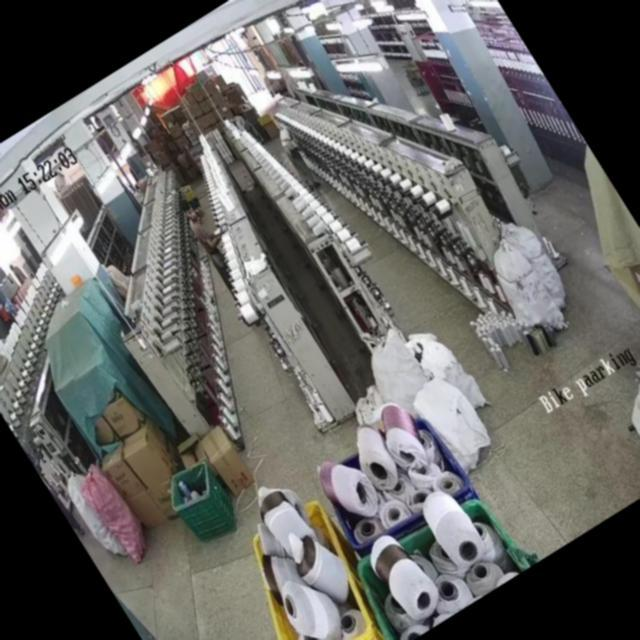person: (174, 192, 234, 274), (270, 121, 326, 198)
